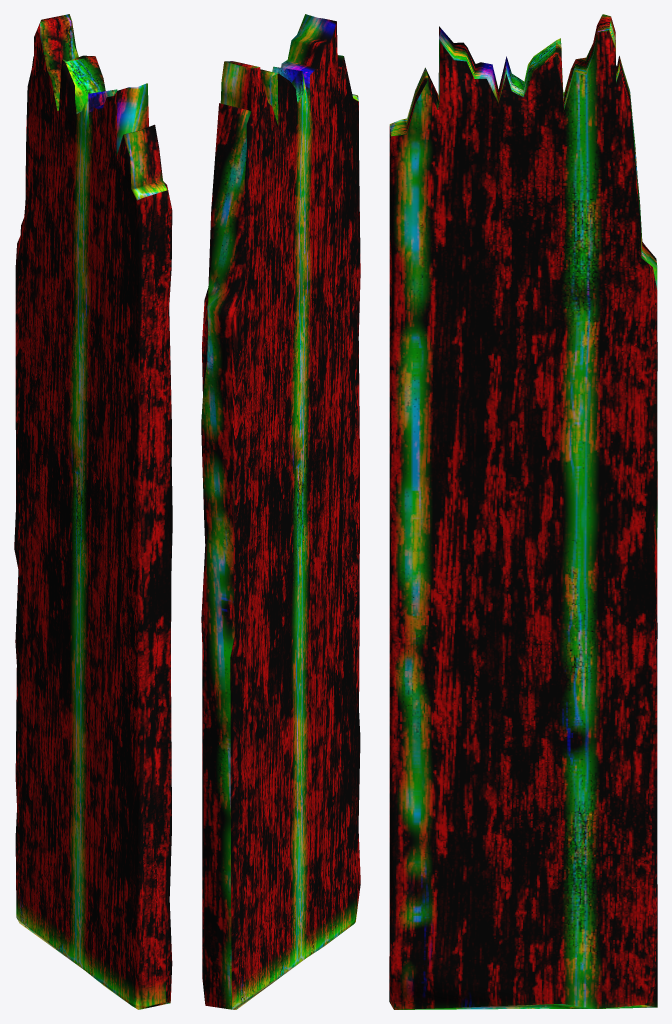
Rendered from SM_BrokenPlanks_4.fbx.
3 views of the same model, side by side, from view 1: azimuth 30°, elevation 25°; view 2: azimuth 150°, elevation 25°; view 3: azimuth 270°, elevation 25° (orthographic). The views are drawn at different scales.
Visible parts, largest first — view 1: SM_BrokenPlanks_4_LOD0; view 2: SM_BrokenPlanks_4_LOD0; view 3: SM_BrokenPlanks_4_LOD0.
Part boxes in pixels (left/top/right/bottom): SM_BrokenPlanks_4_LOD0: left=14, top=14, right=172, bottom=1009; SM_BrokenPlanks_4_LOD0: left=201, top=14, right=360, bottom=1009; SM_BrokenPlanks_4_LOD0: left=389, top=14, right=657, bottom=1009.
Bounding box in the file's own units: 5.93 × 38.05 × 153.
